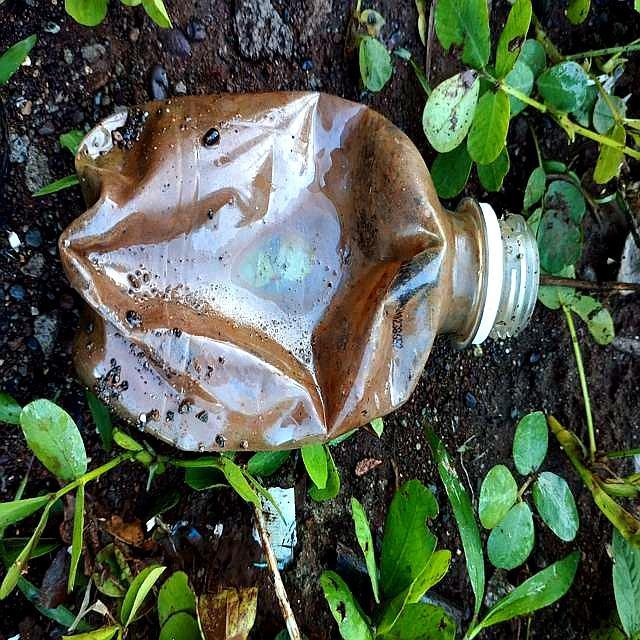Non-biodegradable: (61, 87, 545, 449)
